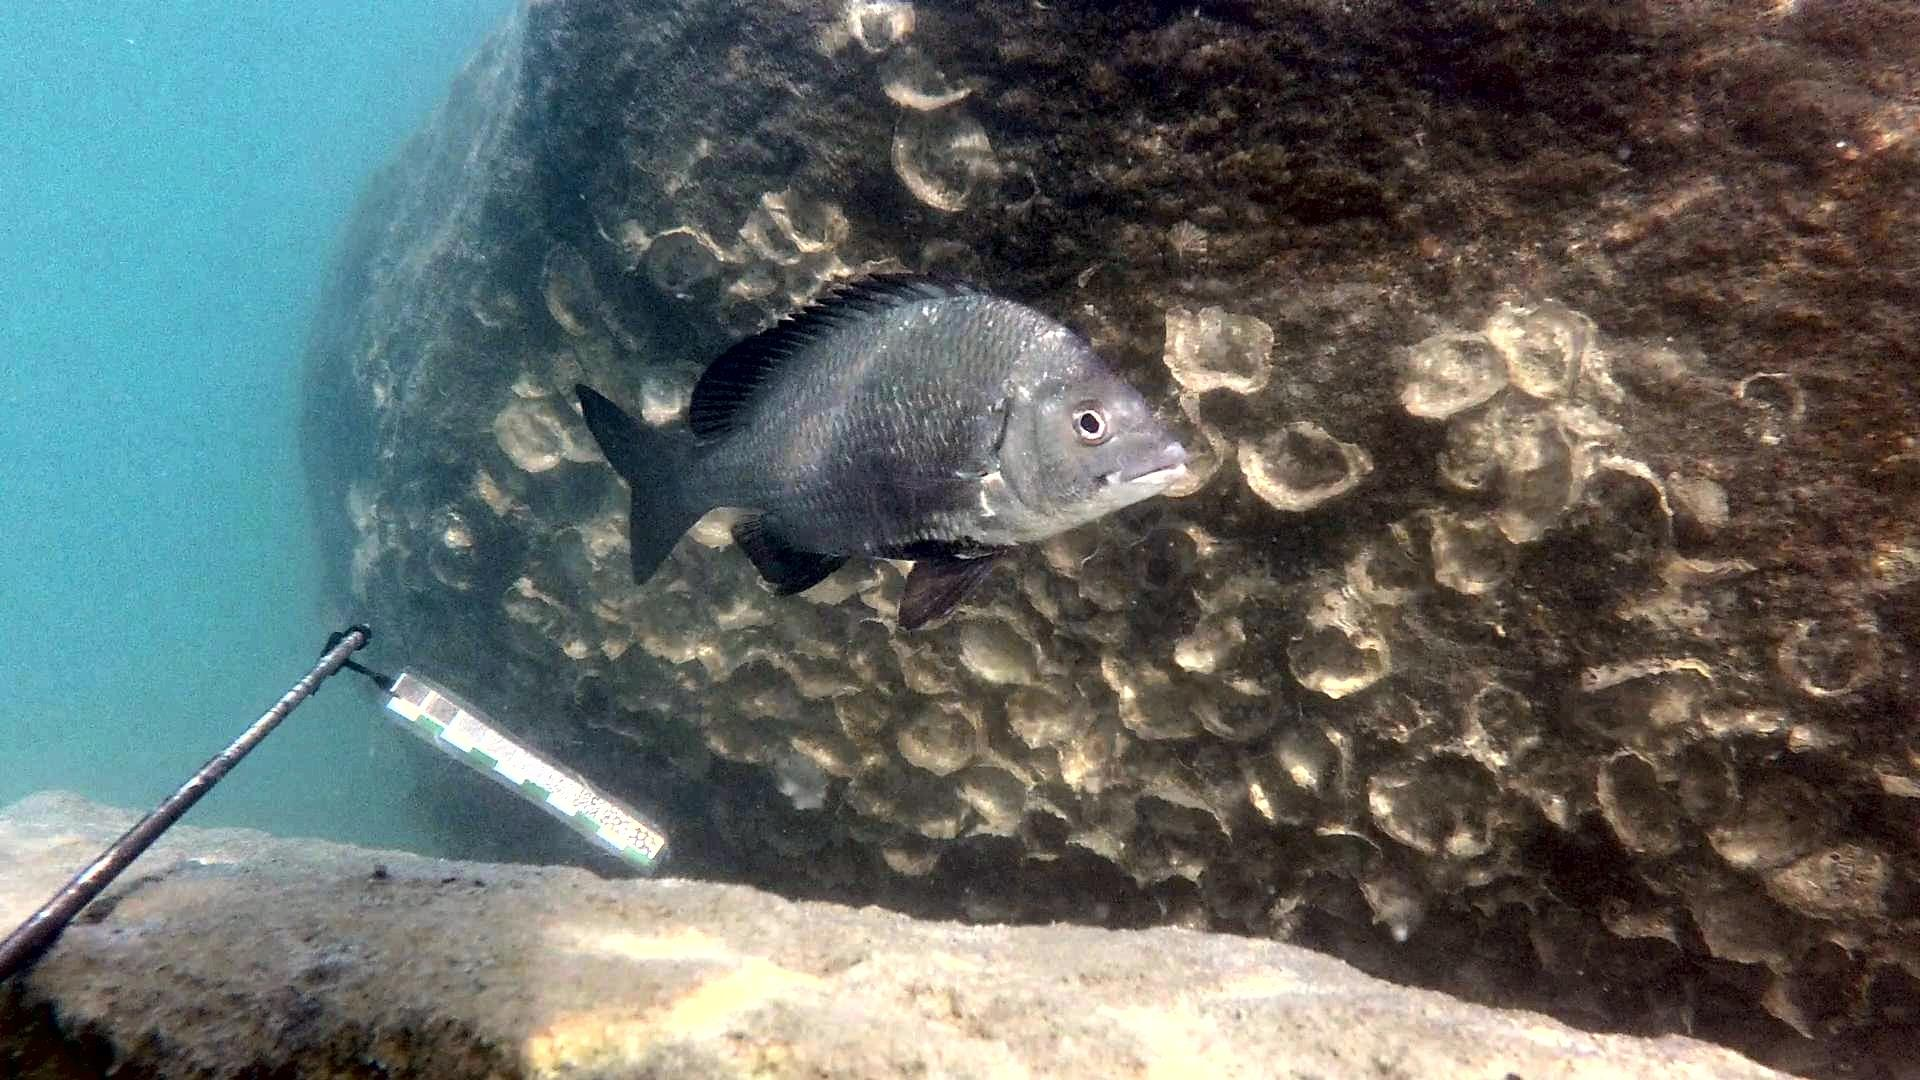acanthopagrus palmaris: (568, 266, 1193, 638)
